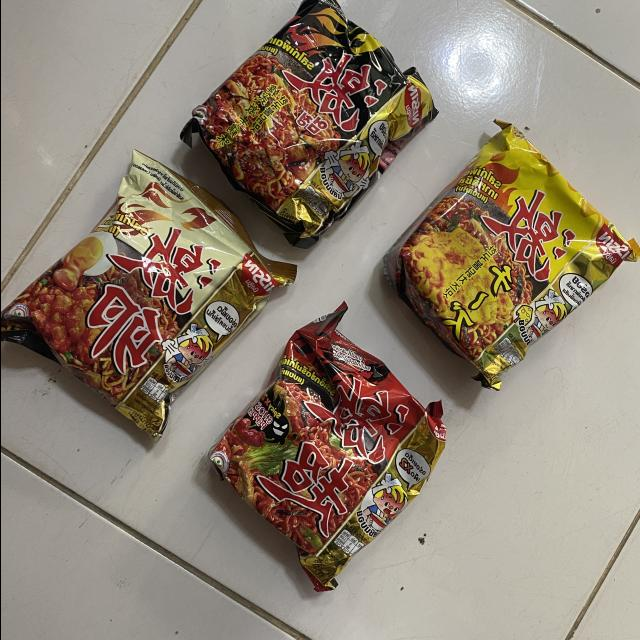plastik: (0, 152, 295, 435), (383, 121, 640, 390), (208, 303, 445, 592), (179, 0, 437, 248)
